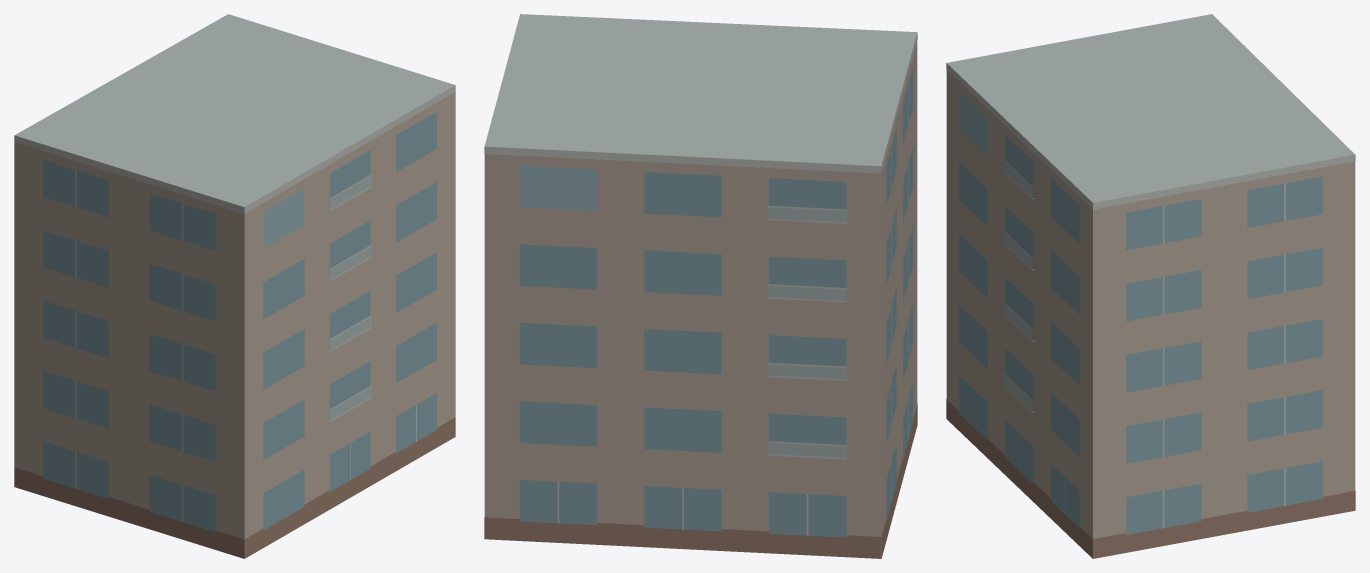
The model's file is survey-upis-32967100.glb.
3 views of the same model, side by side, from view 1: azimuth 30°, elevation 25°; view 2: azimuth 150°, elevation 25°; view 3: azimuth 270°, elevation 25° (orthographic). The views are drawn at different scales.
Parts seen in each view (by area): view 1: survey-upis-32967100.tmp; view 2: survey-upis-32967100.tmp; view 3: survey-upis-32967100.tmp.
Boxes of the visible parts, bbox=[...] form: survey-upis-32967100.tmp: bbox=[14, 14, 455, 558]; survey-upis-32967100.tmp: bbox=[484, 14, 917, 558]; survey-upis-32967100.tmp: bbox=[946, 14, 1355, 558].
Size of the model in its own units: 14.81 by 13 by 13.55.
